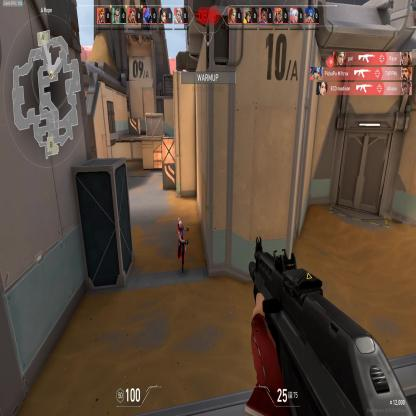enemy: (176, 216, 189, 276)
